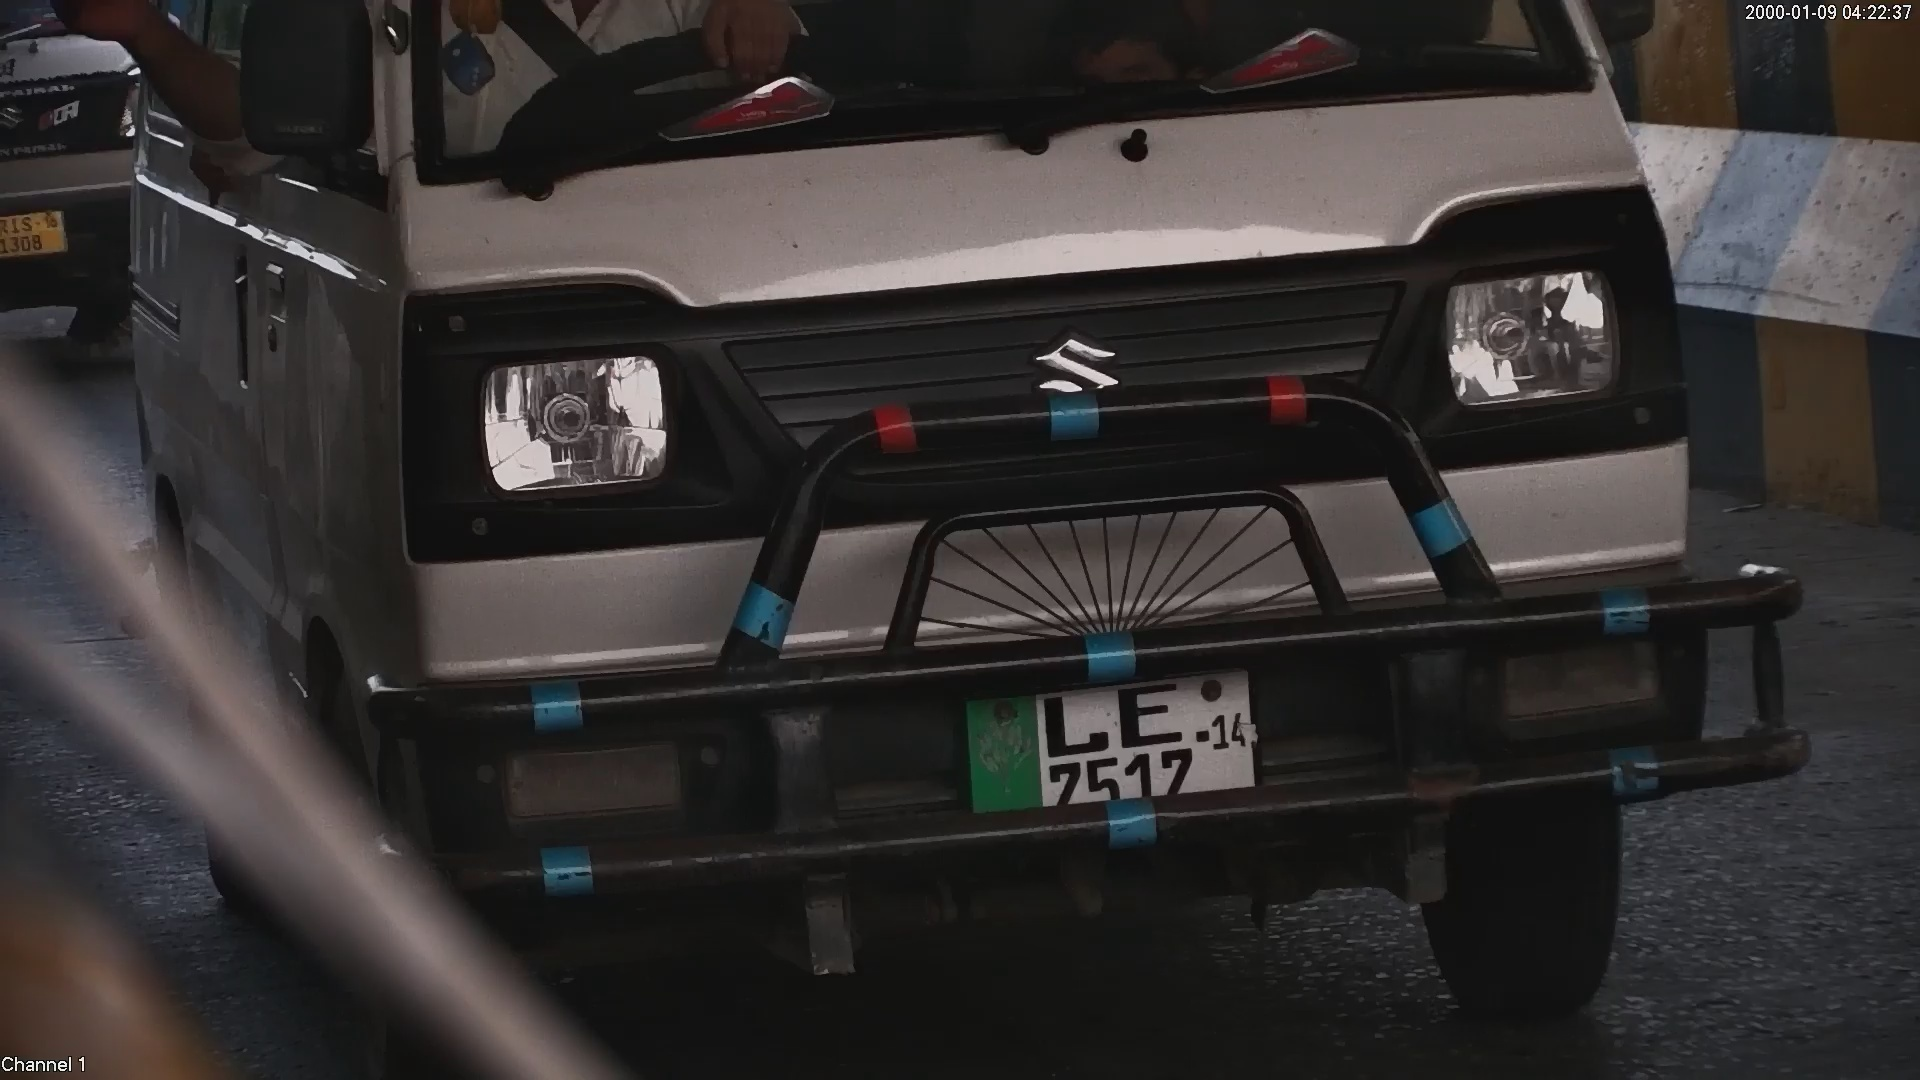Number_Plate: (954, 657, 1280, 827)
Undefined: (439, 303, 693, 514), (1402, 229, 1654, 429), (487, 716, 695, 838), (1495, 618, 1702, 731)
